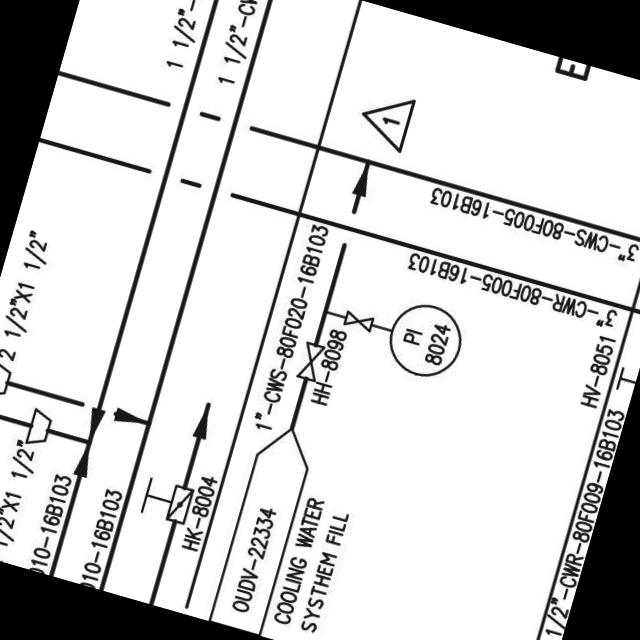BV: (135, 470, 196, 529)
GV: (292, 336, 326, 384), (337, 304, 378, 333)
SP: (19, 402, 57, 452), (0, 355, 16, 404)
